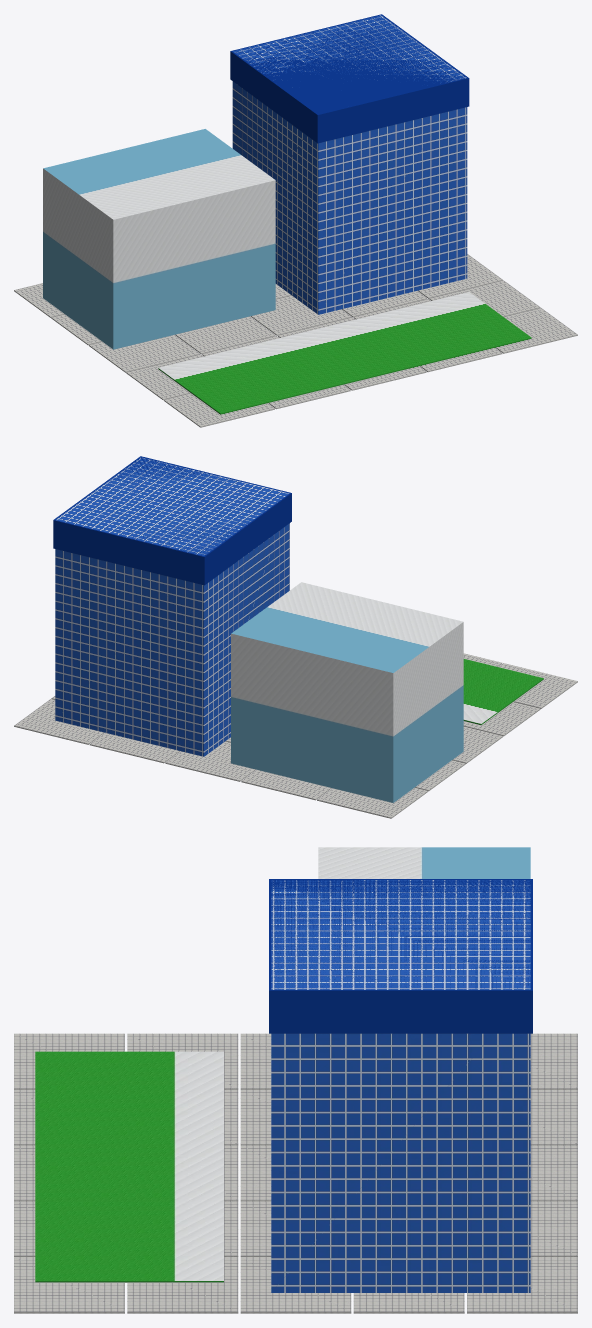
The picture shows the model from 3 angles, top to bottom: view 1: azimuth 30°, elevation 25°; view 2: azimuth 150°, elevation 25°; view 3: azimuth 270°, elevation 25°; orthographic projection. The views are drawn at different scales.
Parts seen in each view (by area): view 1: 28185_B34_DongA_ST_Bio_RND_Campus; view 2: 28185_B34_DongA_ST_Bio_RND_Campus; view 3: 28185_B34_DongA_ST_Bio_RND_Campus.
Boxes of the visible parts, x1,y1,x2,y2 form: 28185_B34_DongA_ST_Bio_RND_Campus: (14, 14, 577, 427); 28185_B34_DongA_ST_Bio_RND_Campus: (14, 456, 577, 818); 28185_B34_DongA_ST_Bio_RND_Campus: (14, 847, 577, 1313).
Size of the model in its own units: 55.8 by 28.5 by 47.8.
1 material, 1 textured.
